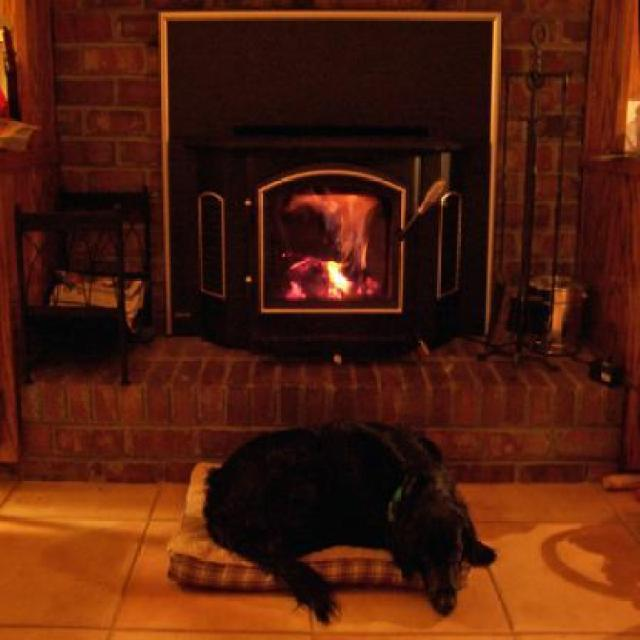Fire: (284, 191, 378, 272), (284, 268, 306, 310), (292, 254, 328, 274), (326, 264, 352, 290), (362, 272, 380, 300)
